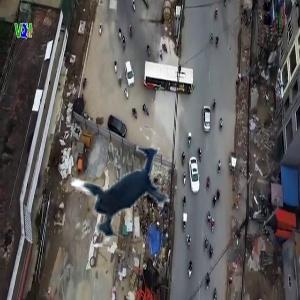drone: (46, 115, 196, 265)
